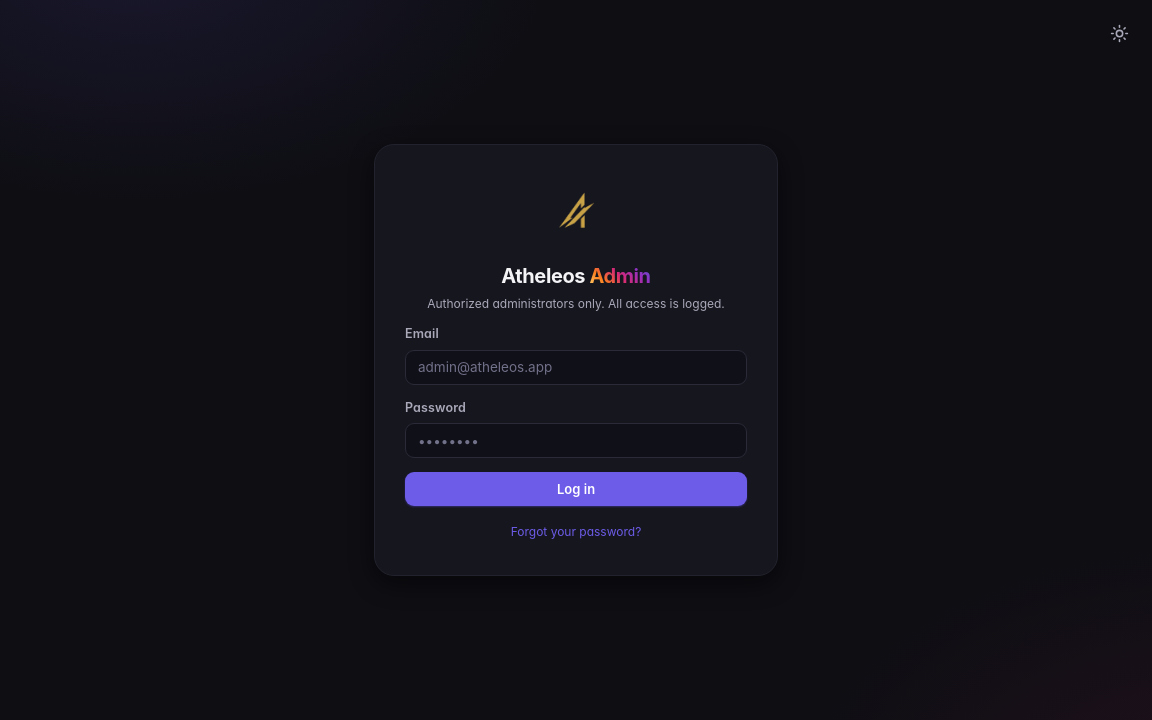
Scenario: Login page › surfaces API login errors
Type "a@b.c" into the field labelled "Email".
click(576, 367); type("a@b.c")  # box [405,350,747,384]
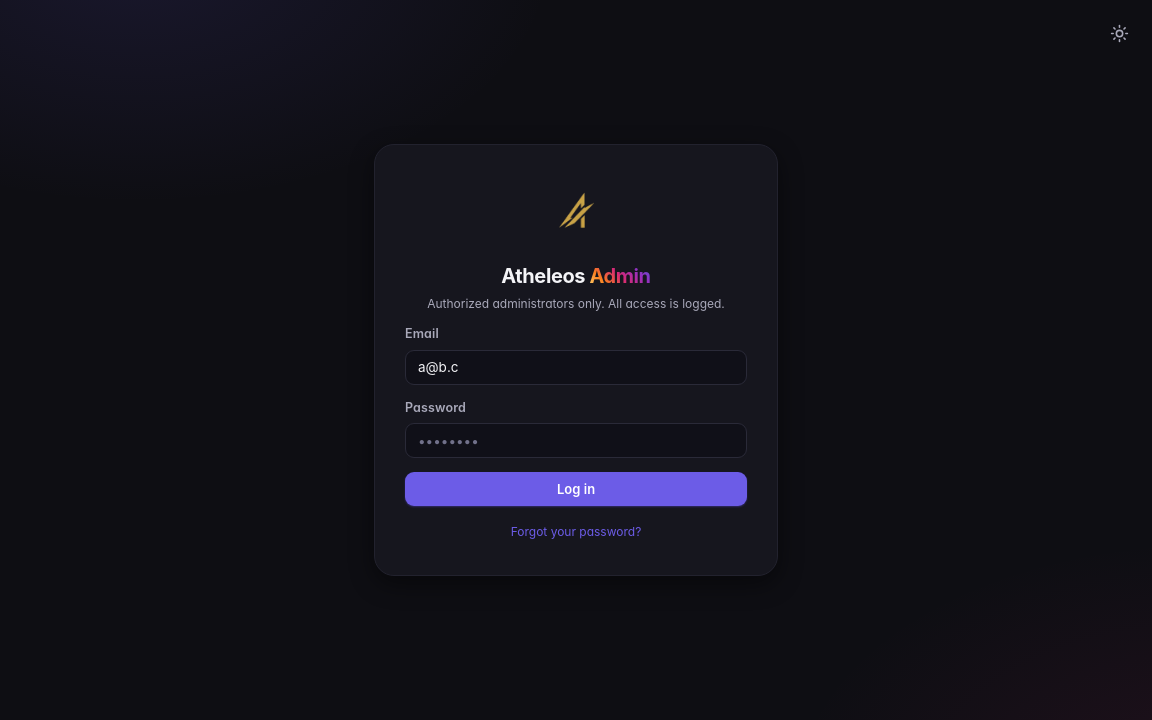
Type "wrong" into the password field labelled "Password".
click(576, 441); type("wrong")  # box [405,423,747,458]
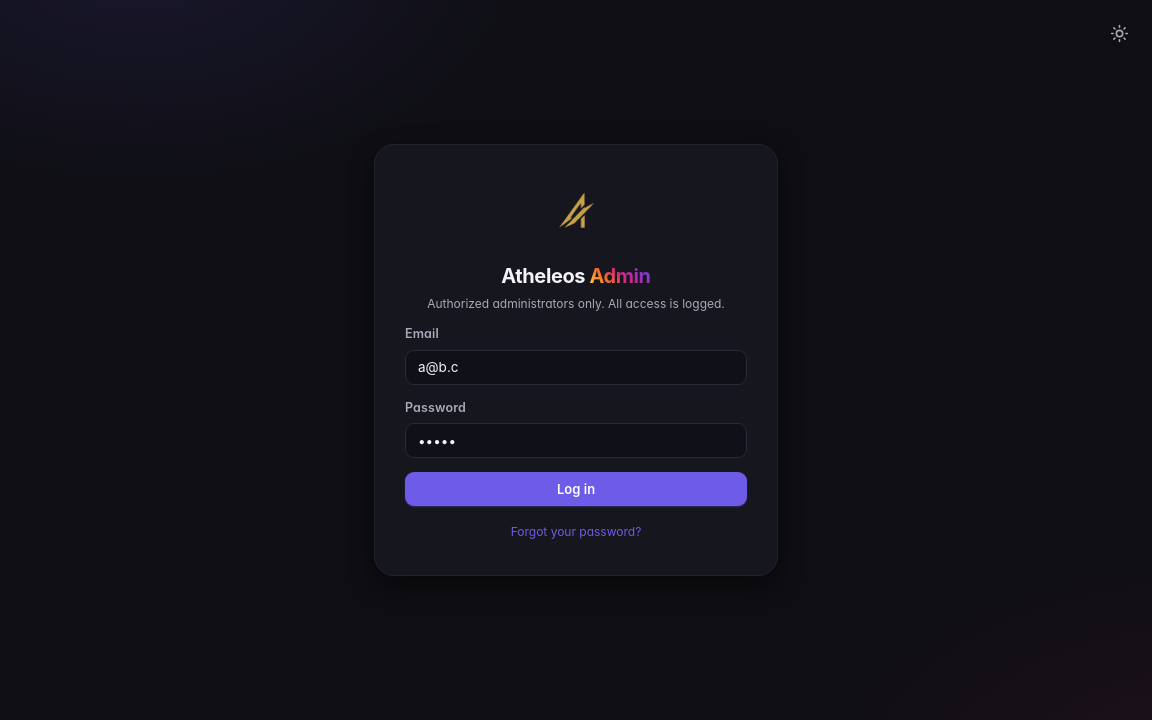
Click the button "Log in".
click(576, 489)  # box [405,472,747,506]
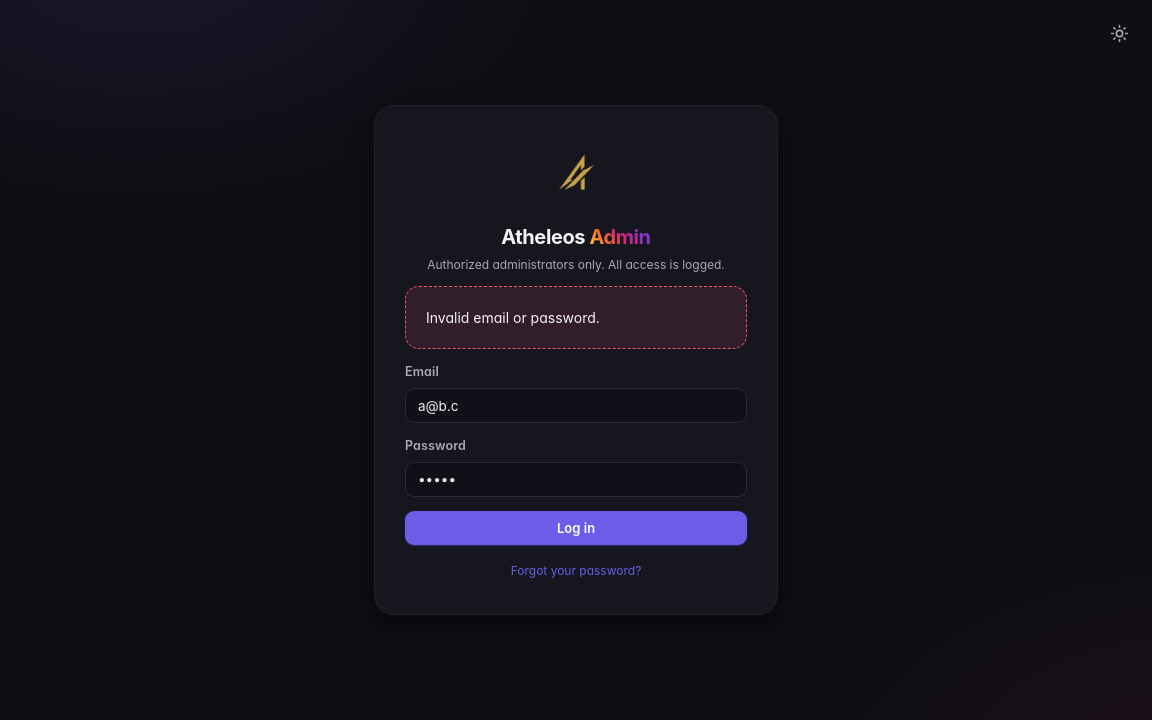
Expected: the text "Invalid email or password." is shown, [405,286,747,349]
